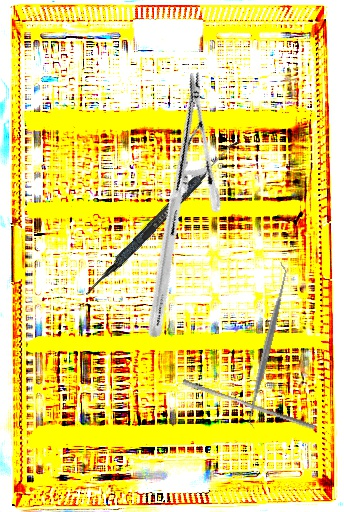Needle Holder: (70, 70, 280, 339)
Pusher: (180, 378, 318, 431)
Spatula Surgical: (83, 134, 240, 301), (238, 260, 297, 430)
